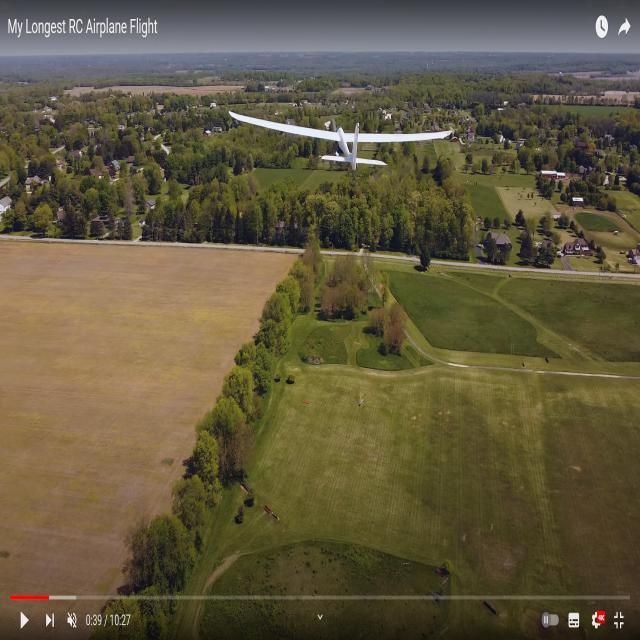iha: (232, 131, 455, 136)
